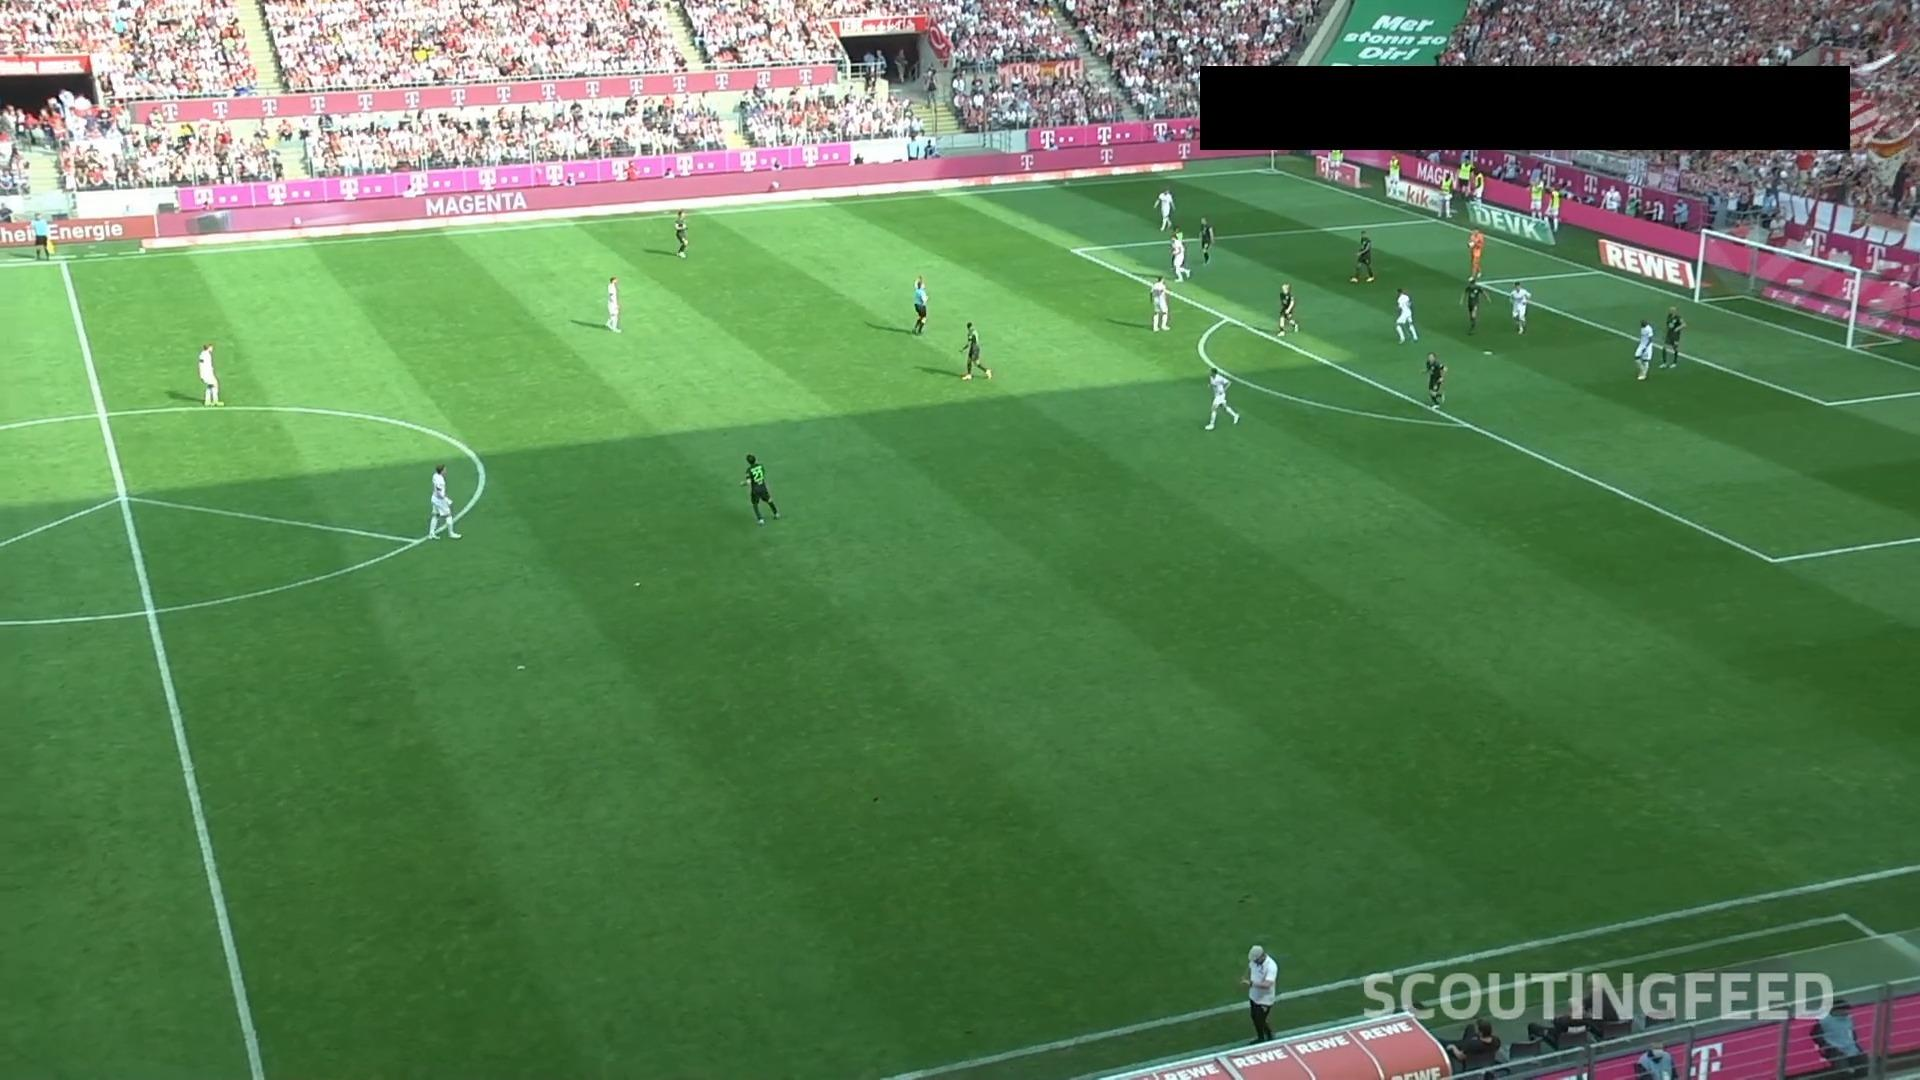ball: (1468, 240, 1476, 248)
